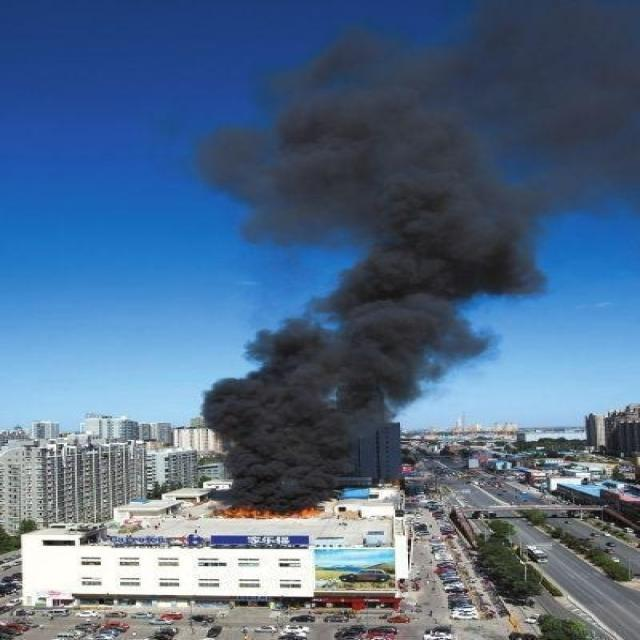Fire: (214, 506, 325, 520)
Smoke: (189, 1, 640, 513)
